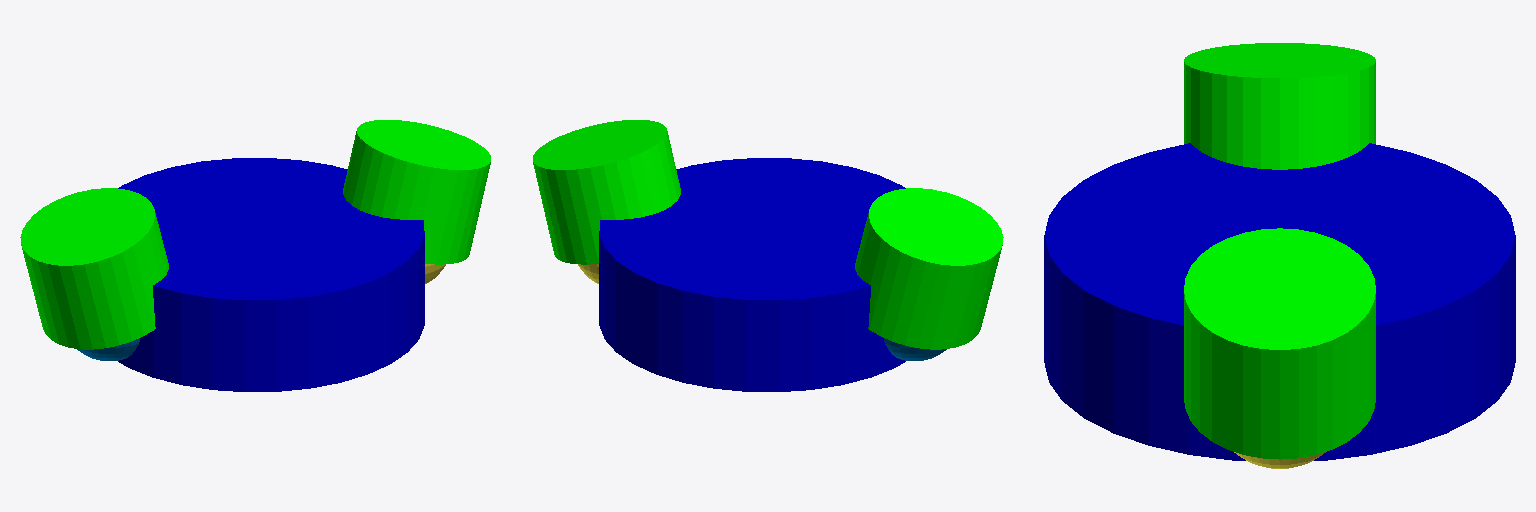
The robot description file, URDF, robot "gripper_2f_1j":
<?xml version='1.0' encoding='UTF-8'?>
<robot name="gripper_2f_1j">
  <link name="palm">
    <inertial>
      <origin xyz="0.0 0.0 0.0" rpy="0.0 -0.0 0.0"/>
      <mass value="1.0"/>
      <inertia ixx="1.0" ixy="0.0" ixz="0.0" iyy="1.0" iyz="0.0" izz="1.0"/>
    </inertial>
    <visual>
      <geometry>
        <cylinder radius="0.05" length="0.03"/>
      </geometry>
      <material name="blue"/>
      <origin xyz="0.0 0.0 0.0" rpy="0.0 -0.0 0.0"/>
    </visual>
    <collision>
      <geometry>
        <cylinder radius="0.05" length="0.03"/>
      </geometry>
      <origin xyz="0.0 0.0 0.0" rpy="0.0 0.0 0.0"/>
    </collision>
  </link>
  <link name="f11">
    <inertial>
      <origin xyz="0.0 0.0 0.0" rpy="0.0 -0.0 0.0"/>
      <mass value="1.0"/>
      <inertia ixx="1.0" ixy="0.0" ixz="0.0" iyy="1.0" iyz="0.0" izz="1.0"/>
    </inertial>
    <visual>
      <geometry>
        <cylinder radius="0.02041945892504144" length="0.03001944371894863"/>
      </geometry>
      <material name="green"/>
      <origin xyz="0.0 0.0 0.015009721859474315" rpy="0.0 -0.0 0.0"/>
    </visual>
    <collision>
      <geometry>
        <cylinder radius="0.02041945892504144" length="0.03001944371894863"/>
      </geometry>
      <origin xyz="0.0 0.0 0.05" rpy="0.0 0.0 0.0"/>
    </collision>
  </link>
  <link name="f21">
    <inertial>
      <origin xyz="0.0 0.0 0.0" rpy="0.0 -0.0 0.0"/>
      <mass value="1.0"/>
      <inertia ixx="1.0" ixy="0.0" ixz="0.0" iyy="1.0" iyz="0.0" izz="1.0"/>
    </inertial>
    <visual>
      <geometry>
        <cylinder radius="0.02041945892504144" length="0.03001944371894863"/>
      </geometry>
      <material name="green"/>
      <origin xyz="0.0 0.0 0.015009721859474315" rpy="0.0 -0.0 0.0"/>
    </visual>
    <collision>
      <geometry>
        <cylinder radius="0.02041945892504144" length="0.03001944371894863"/>
      </geometry>
      <origin xyz="0.0 0.0 0.05" rpy="0.0 0.0 0.0"/>
    </collision>
  </link>
  <link name="f11_base">
    <inertial>
      <origin xyz="0.0 0.0 0.0" rpy="0.0 -0.0 0.0"/>
      <mass value="1.0"/>
      <inertia ixx="1.0" ixy="0.0" ixz="0.0" iyy="1.0" iyz="0.0" izz="1.0"/>
    </inertial>
    <visual>
      <geometry>
        <sphere radius="0.015"/>
      </geometry>
      <origin xyz="0.0 0.0 0.0" rpy="0.0 -0.0 0.0"/>
    </visual>
  </link>
  <link name="f21_base">
    <inertial>
      <origin xyz="0.0 0.0 0.0" rpy="0.0 -0.0 0.0"/>
      <mass value="1.0"/>
      <inertia ixx="1.0" ixy="0.0" ixz="0.0" iyy="1.0" iyz="0.0" izz="1.0"/>
    </inertial>
    <visual>
      <geometry>
        <sphere radius="0.015"/>
      </geometry>
      <origin xyz="0.0 0.0 0.0" rpy="0.0 -0.0 0.0"/>
    </visual>
  </link>
  <joint name="f11_joint" type="revolute">
    <dynamics damping="100.0" friction="1.0"/>
    <limit effort="30.0" velocity="2.0" lower="-0.6" upper="0.25"/>
    <parent link="f11_base"/>
    <child link="f11"/>
    <axis xyz="0. 1. 0."/>
    <origin xyz="0.0 0.0 0.0" rpy="0.0 0.25 0.0"/>
  </joint>
  <joint name="f21_joint" type="revolute">
    <dynamics damping="100.0" friction="1.0"/>
    <limit effort="30.0" velocity="2.0" lower="-0.6" upper="0.25"/>
    <parent link="f21_base"/>
    <child link="f21"/>
    <axis xyz=" 0. -1.  0."/>
    <origin xyz="0.0 0.0 0.0" rpy="0.0 -0.25 0.0"/>
  </joint>
  <joint name="f11_base_joint" type="fixed">
    <parent link="palm"/>
    <child link="f11_base"/>
    <axis xyz="1. 0. 0."/>
    <origin xyz="0.05 0.0 0.0" rpy="0.0 0.0 0.0"/>
  </joint>
  <joint name="f21_base_joint" type="fixed">
    <parent link="palm"/>
    <child link="f21_base"/>
    <axis xyz="1. 0. 0."/>
    <origin xyz="-0.05 -0.0 0.0" rpy="0.0 0.0 0.0"/>
  </joint>
  <material name="blue">
    <color rgba="0.  0.  0.8 1. "/>
  </material>
  <material name="green">
    <color rgba="0. 1. 0. 1."/>
  </material>
</robot>

--- What the picture shows (computed from the rendered views, not written in the file) ---
3 views of the same robot in one strip: view 1: azimuth 30°, elevation 25°; view 2: azimuth 150°, elevation 25°; view 3: azimuth 270°, elevation 25° (orthographic).
Model gripper_2f_1j with 5 links and 4 joints (2 revolute, 2 fixed), rooted at palm, posed every joint at zero.
Visible links, largest first — view 1: palm, f21, f11, f21_base; view 2: palm, f21, f11, f21_base; view 3: palm, f11, f21, f11_base.
Link boxes in pixels (x1,y1,x2,y2): palm: (118, 158, 424, 391); f21: (20, 188, 168, 349); f11: (343, 120, 490, 264); f21_base: (77, 338, 139, 360); palm: (599, 158, 905, 391); f21: (855, 188, 1003, 349); f11: (533, 120, 680, 264); f21_base: (884, 338, 946, 360); palm: (1044, 143, 1515, 460); f11: (1184, 228, 1375, 459); f21: (1184, 43, 1375, 169); f11_base: (1234, 452, 1325, 468).
Size in the robot's own frame: 0.1544 by 0.1 by 0.0491 metres.
Geometry: primitives only (box / cylinder / sphere), no mesh files.